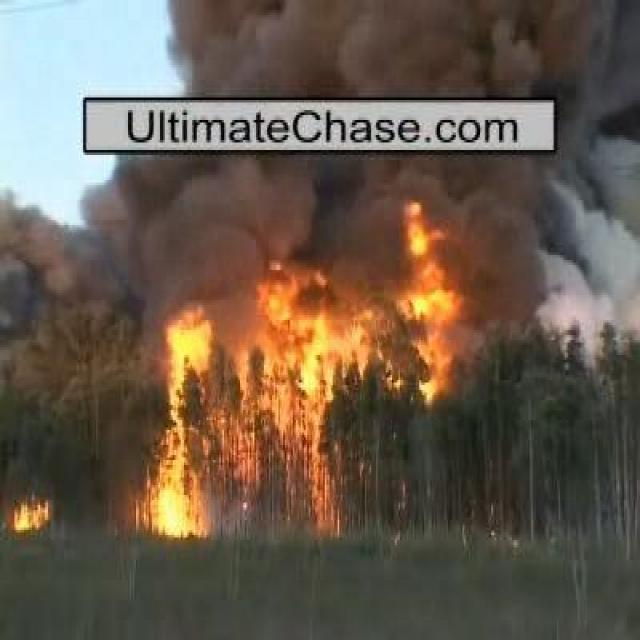fire: (148, 479, 195, 534)
smoke: (89, 164, 592, 302), (173, 12, 578, 90)
